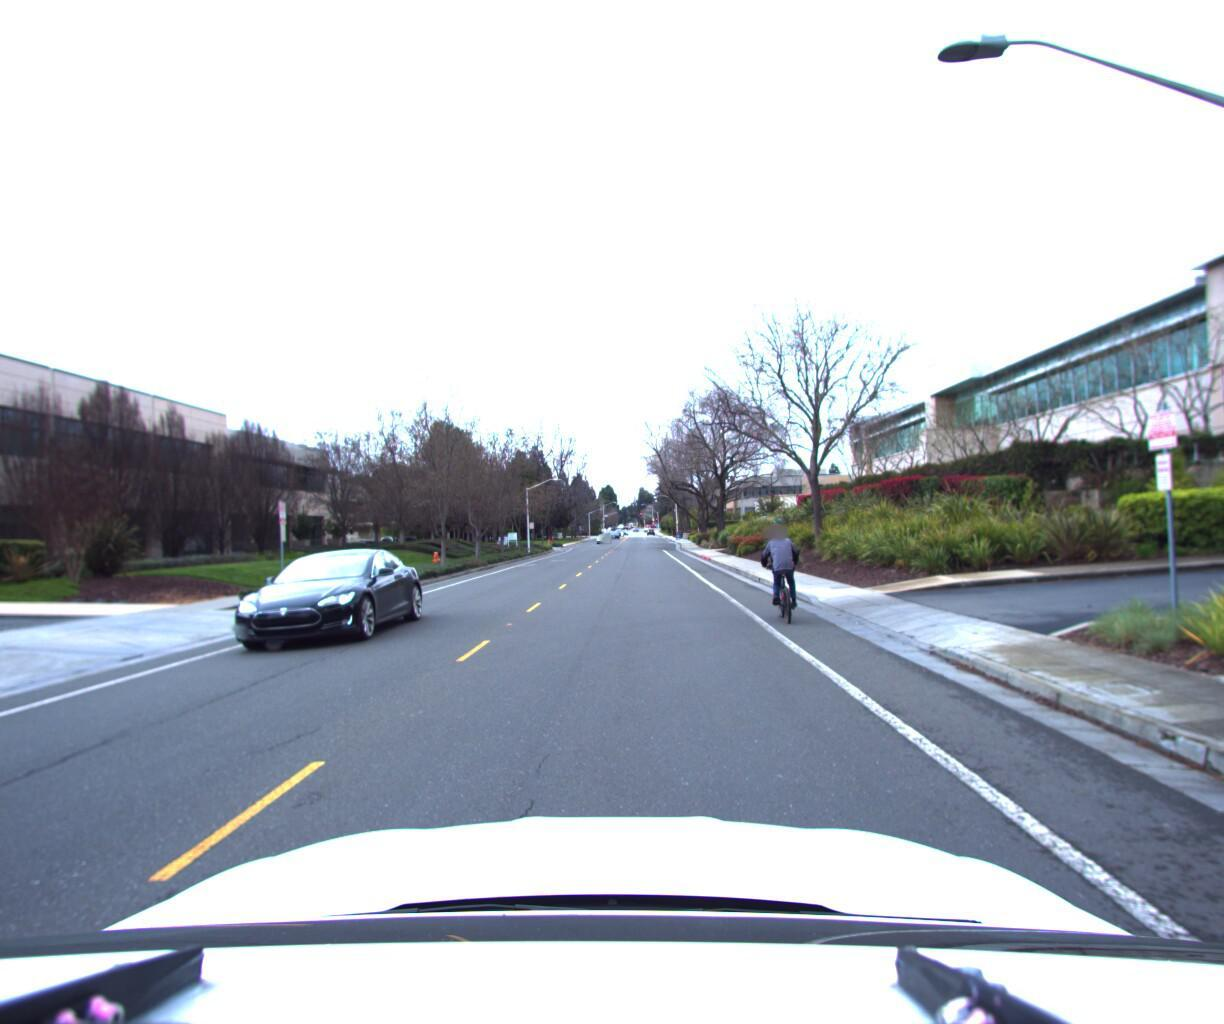bicycle: (748, 514, 822, 629)
car: (219, 545, 431, 658)
